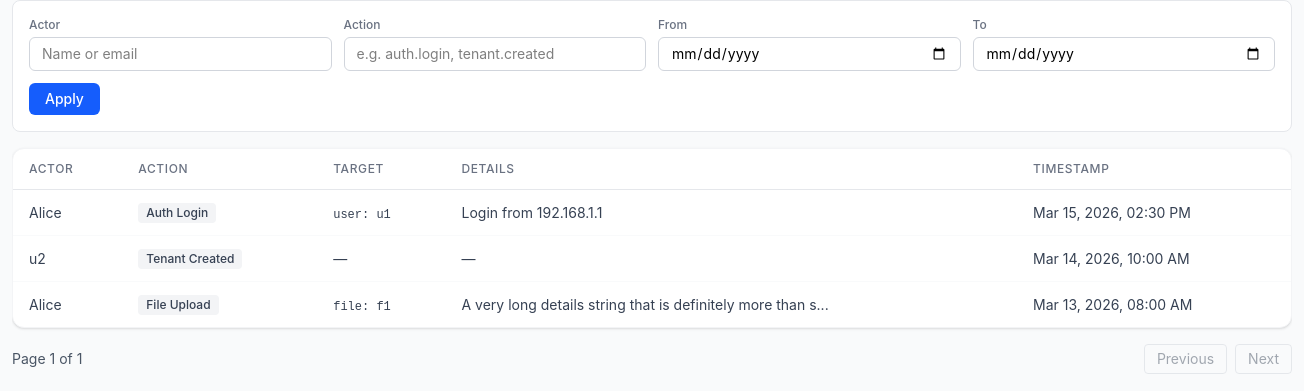
Test case: AuditLogPage › shows Clear button when filter input has value
This screenshot has width=1304, height=391.
Type "alice" into the field labelled "Actor" at point(180, 54), box [29, 37, 332, 71]
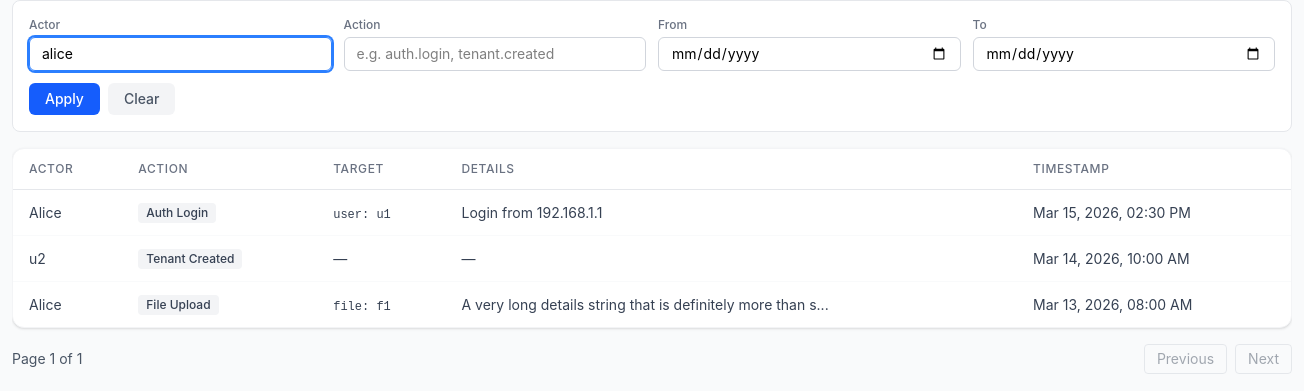
Expected: the button "Clear" is shown, [108, 83, 175, 115]
